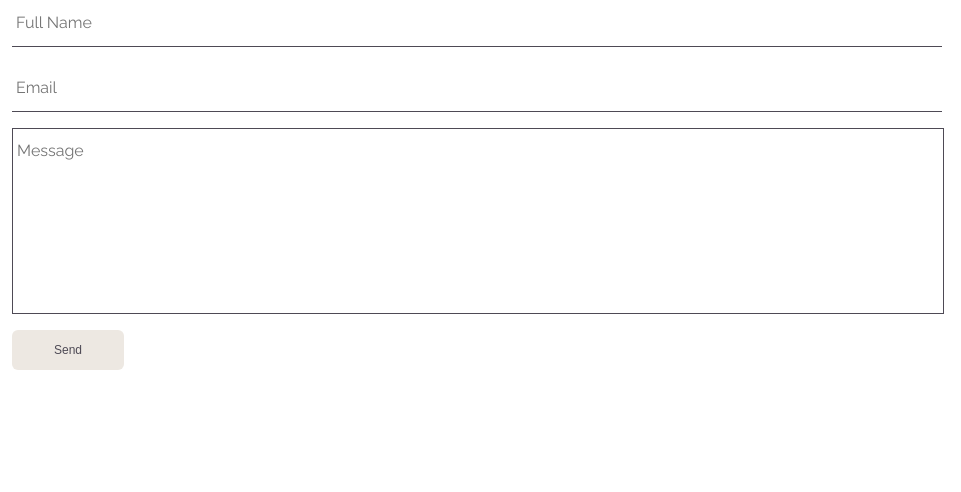
ContactForm › shows validation errors when submitting empty form
Click the button "Send": point(68, 350) [12,330,124,370]
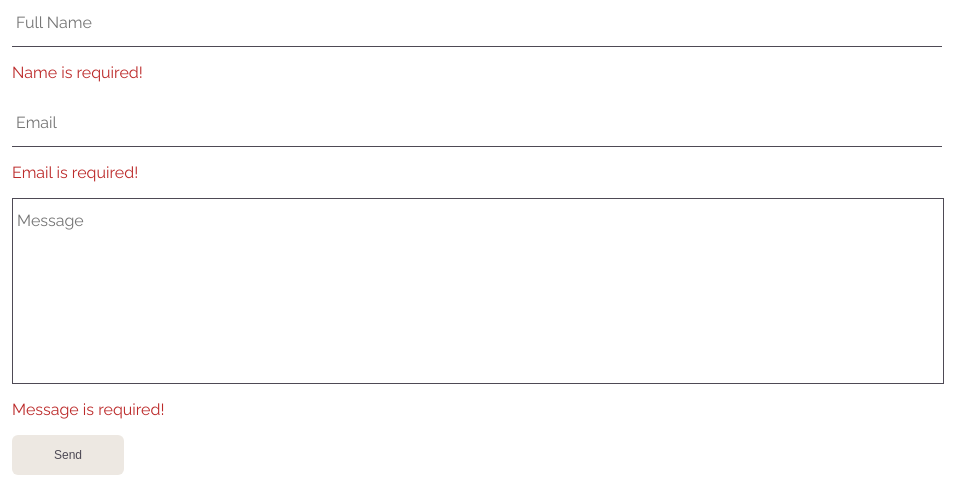
Now the text "Name is required!" is shown, box [12,63,143,82]
Now the text "Email is required!" is shown, box [12,163,138,182]
Now the text "Message is required!" is shown, box [12,400,164,419]
